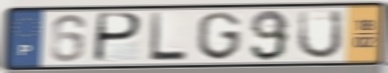6: (48, 13, 87, 64)
9: (249, 8, 290, 63)
G: (195, 11, 243, 62)
L: (147, 11, 189, 64)
P: (91, 11, 145, 64)
U: (295, 8, 345, 61)
